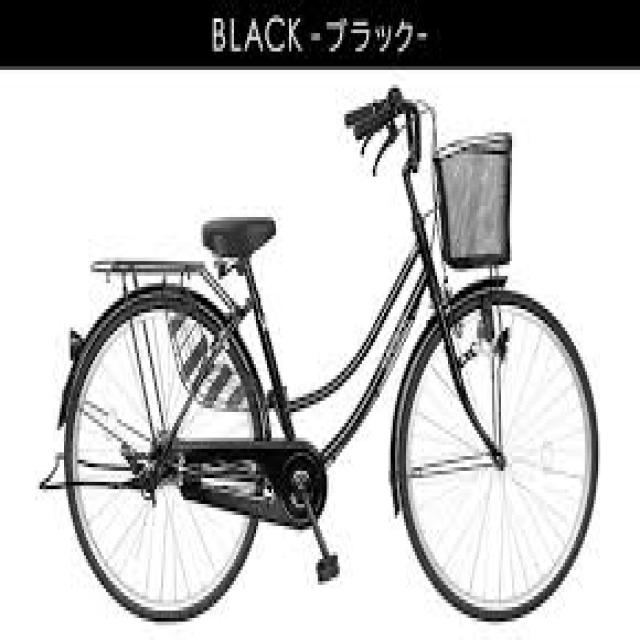basket: (431, 130, 512, 267)
